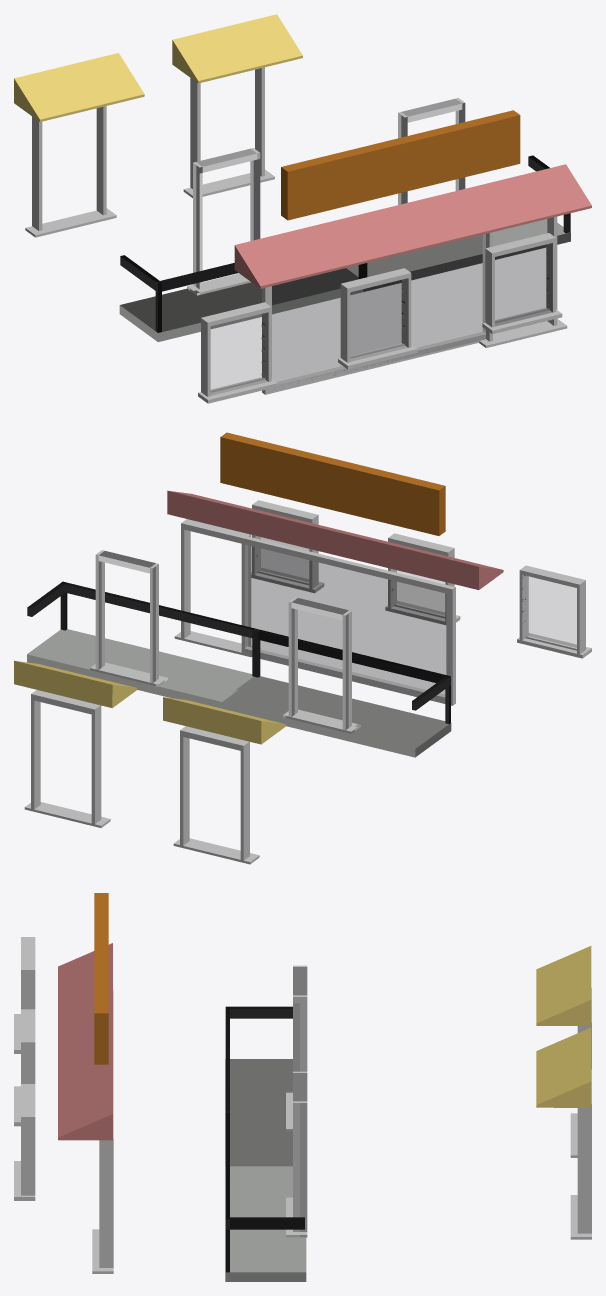
The model's file is Facciate2.fbx.
The picture shows the model from 3 angles, top to bottom: view 1: azimuth 30°, elevation 25°; view 2: azimuth 150°, elevation 25°; view 3: azimuth 270°, elevation 25°; orthographic projection. The views are drawn at different scales.
Parts seen in each view (by area): view 1: Facciata_b7, Facciata_m3, Facciata_b4_2, VetroFacciata_b4_1, Facciata_b4, VetroFacciata_b4_1_2, Facciata_b4_2_2; view 2: Facciata_b7, Facciata_m3, Facciata_b4_2, Facciata_b4, VetroFacciata_b4_1_2, Facciata_b4_2_2; view 3: Facciata_m3, Facciata_b7, Facciata_b4_2, Facciata_b4, Facciata_b4_2_2.
Boxes of the visible parts, x1,y1,x2,y2 form: Facciata_b7: (234,110,591,394); Facciata_m3: (119,98,570,341); Facciata_b4_2: (14,14,302,237); VetroFacciata_b4_1: (351,244,551,360); Facciata_b4: (338,233,562,369); VetroFacciata_b4_1_2: (211,313,267,394); Facciata_b4_2_2: (198,302,277,403); Facciata_b7: (167,432,503,705); Facciata_m3: (27,550,451,757); Facciata_b4_2: (14,660,285,864); Facciata_b4: (251,500,460,625); VetroFacciata_b4_1_2: (529,577,576,646); Facciata_b4_2_2: (517,565,591,658); Facciata_m3: (225,965,307,1281); Facciata_b7: (58,893,113,1273); Facciata_b4_2: (536,946,591,1239); Facciata_b4: (14,1009,35,1200); Facciata_b4_2_2: (14,937,35,1053).
Size of the model in its own units: 796 by 368 by 813.
